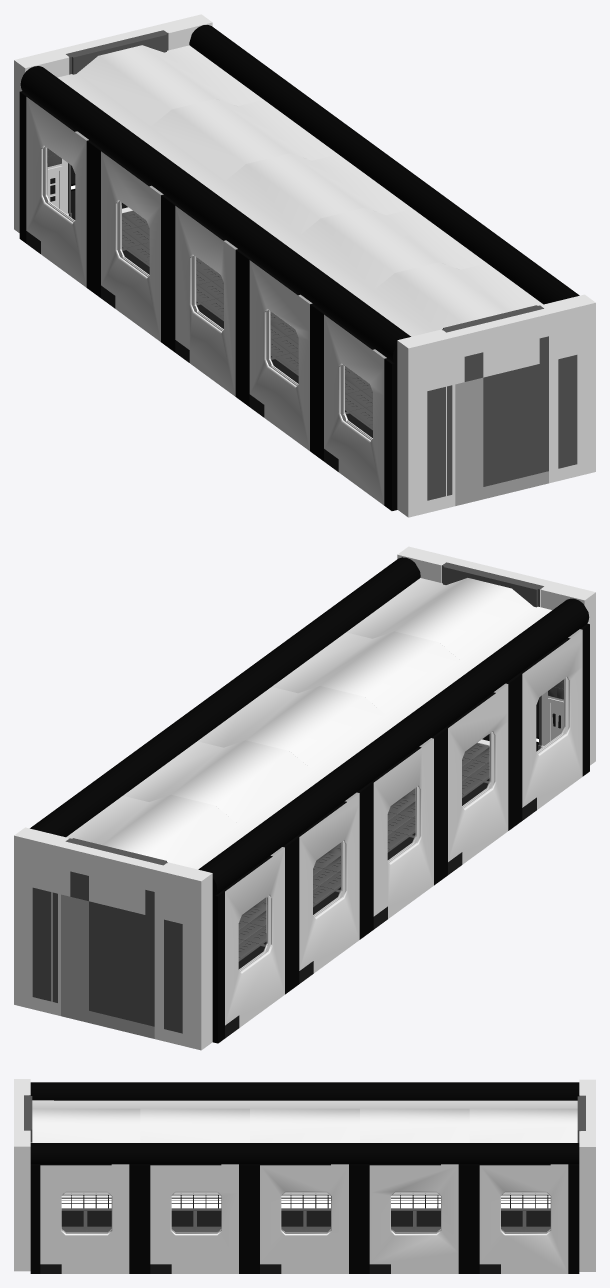
Rendered from hallway.glb.
3 views of the same model, one above another, from view 1: azimuth 30°, elevation 25°; view 2: azimuth 150°, elevation 25°; view 3: azimuth 270°, elevation 25° (orthographic). The views are drawn at different scales.
Parts seen in each view (by area): view 1: highpolywall11_Wall_Black_0; view 2: highpolywall11_Wall_Black_0; view 3: highpolywall11_Wall_Black_0, highpolywall11_Vent_light_0.
Part boxes in pixels (x1,y1,x2,y2): highpolywall11_Wall_Black_0: [14, 14, 595, 517]; highpolywall11_Wall_Black_0: [14, 546, 595, 1050]; highpolywall11_Wall_Black_0: [14, 1079, 595, 1273]; highpolywall11_Vent_light_0: [61, 1196, 550, 1208].
Bounding box in the file's own units: 8.47 × 7 × 29.16.
4 materials, 4 textured.
